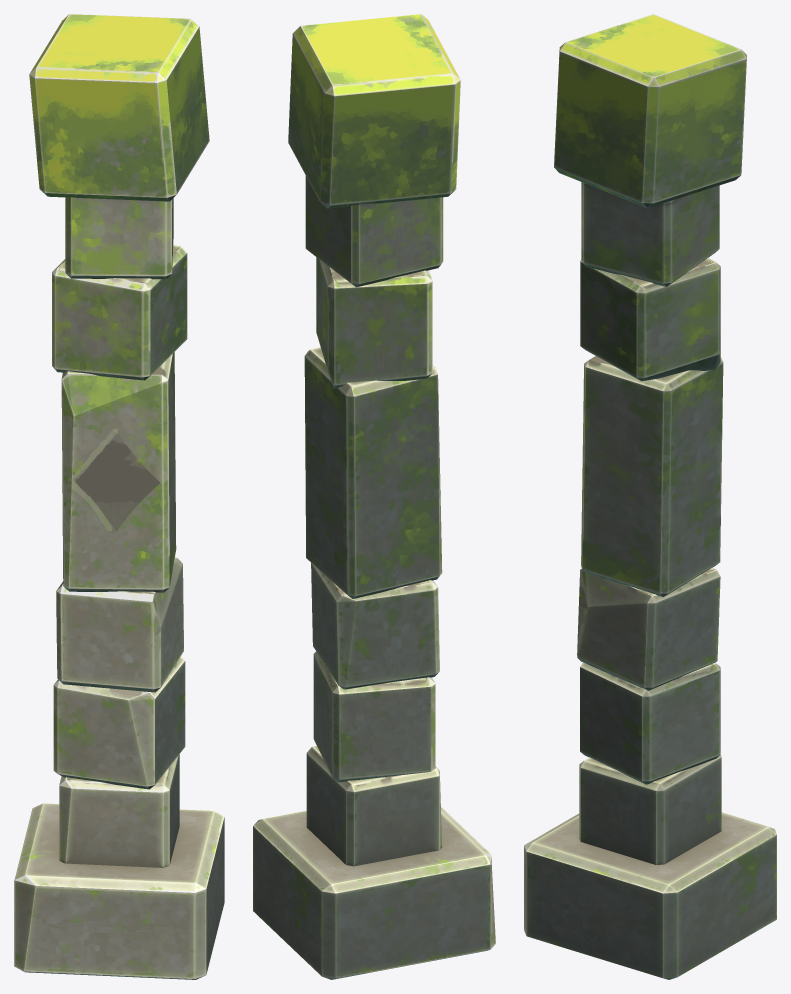
File: stone_pillar4.fbx
The picture shows the model from 3 angles, left to right: view 1: azimuth 30°, elevation 25°; view 2: azimuth 150°, elevation 25°; view 3: azimuth 270°, elevation 25°; orthographic projection.
Parts seen in each view (by area): view 1: stone_pillar4; view 2: stone_pillar4; view 3: stone_pillar4.
Boxes of the visible parts, <box> form: stone_pillar4: <box>14,14,224,979</box>; stone_pillar4: <box>253,14,495,979</box>; stone_pillar4: <box>524,14,776,979</box>.
Size of the model in its own units: 89.15 by 345 by 89.15.
Materials: 1 (1 with a texture image).
